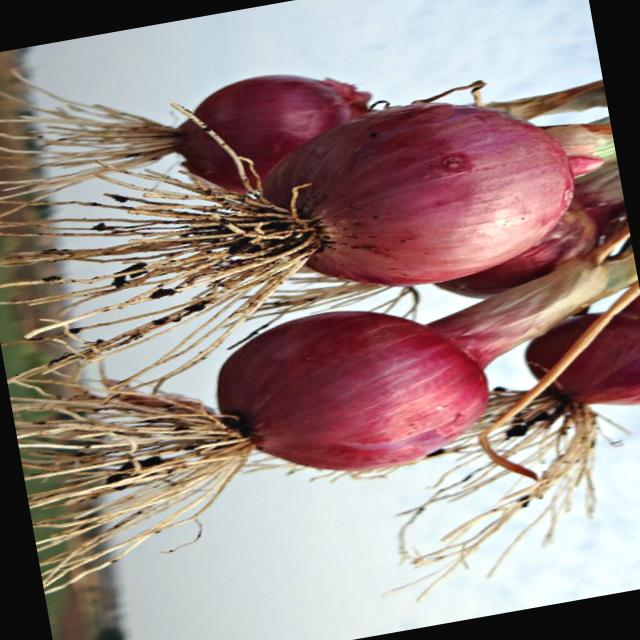orange: (278, 74, 618, 306), (204, 285, 500, 506)
